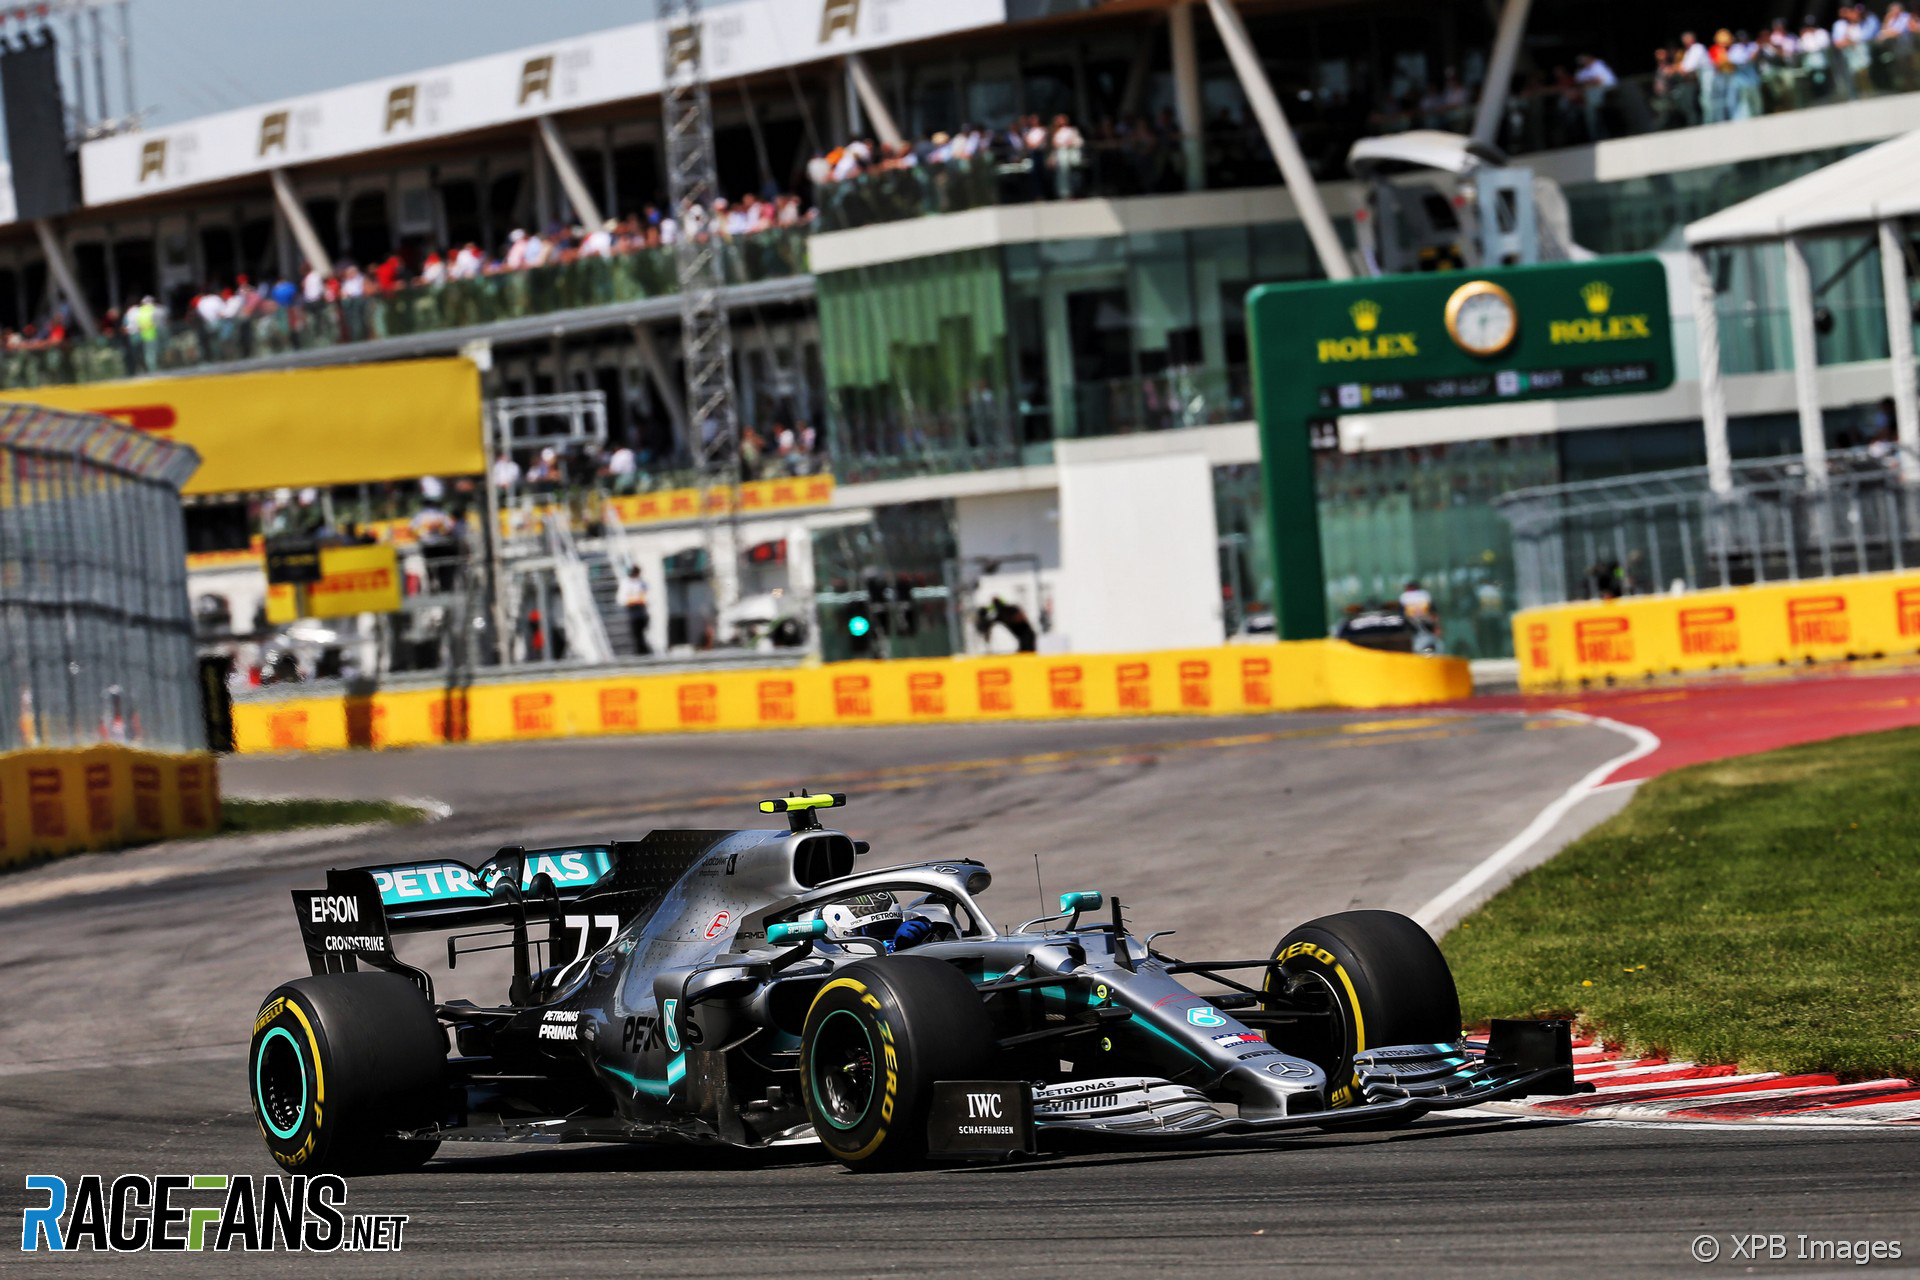F1 Car: (237, 771, 1611, 1179)
